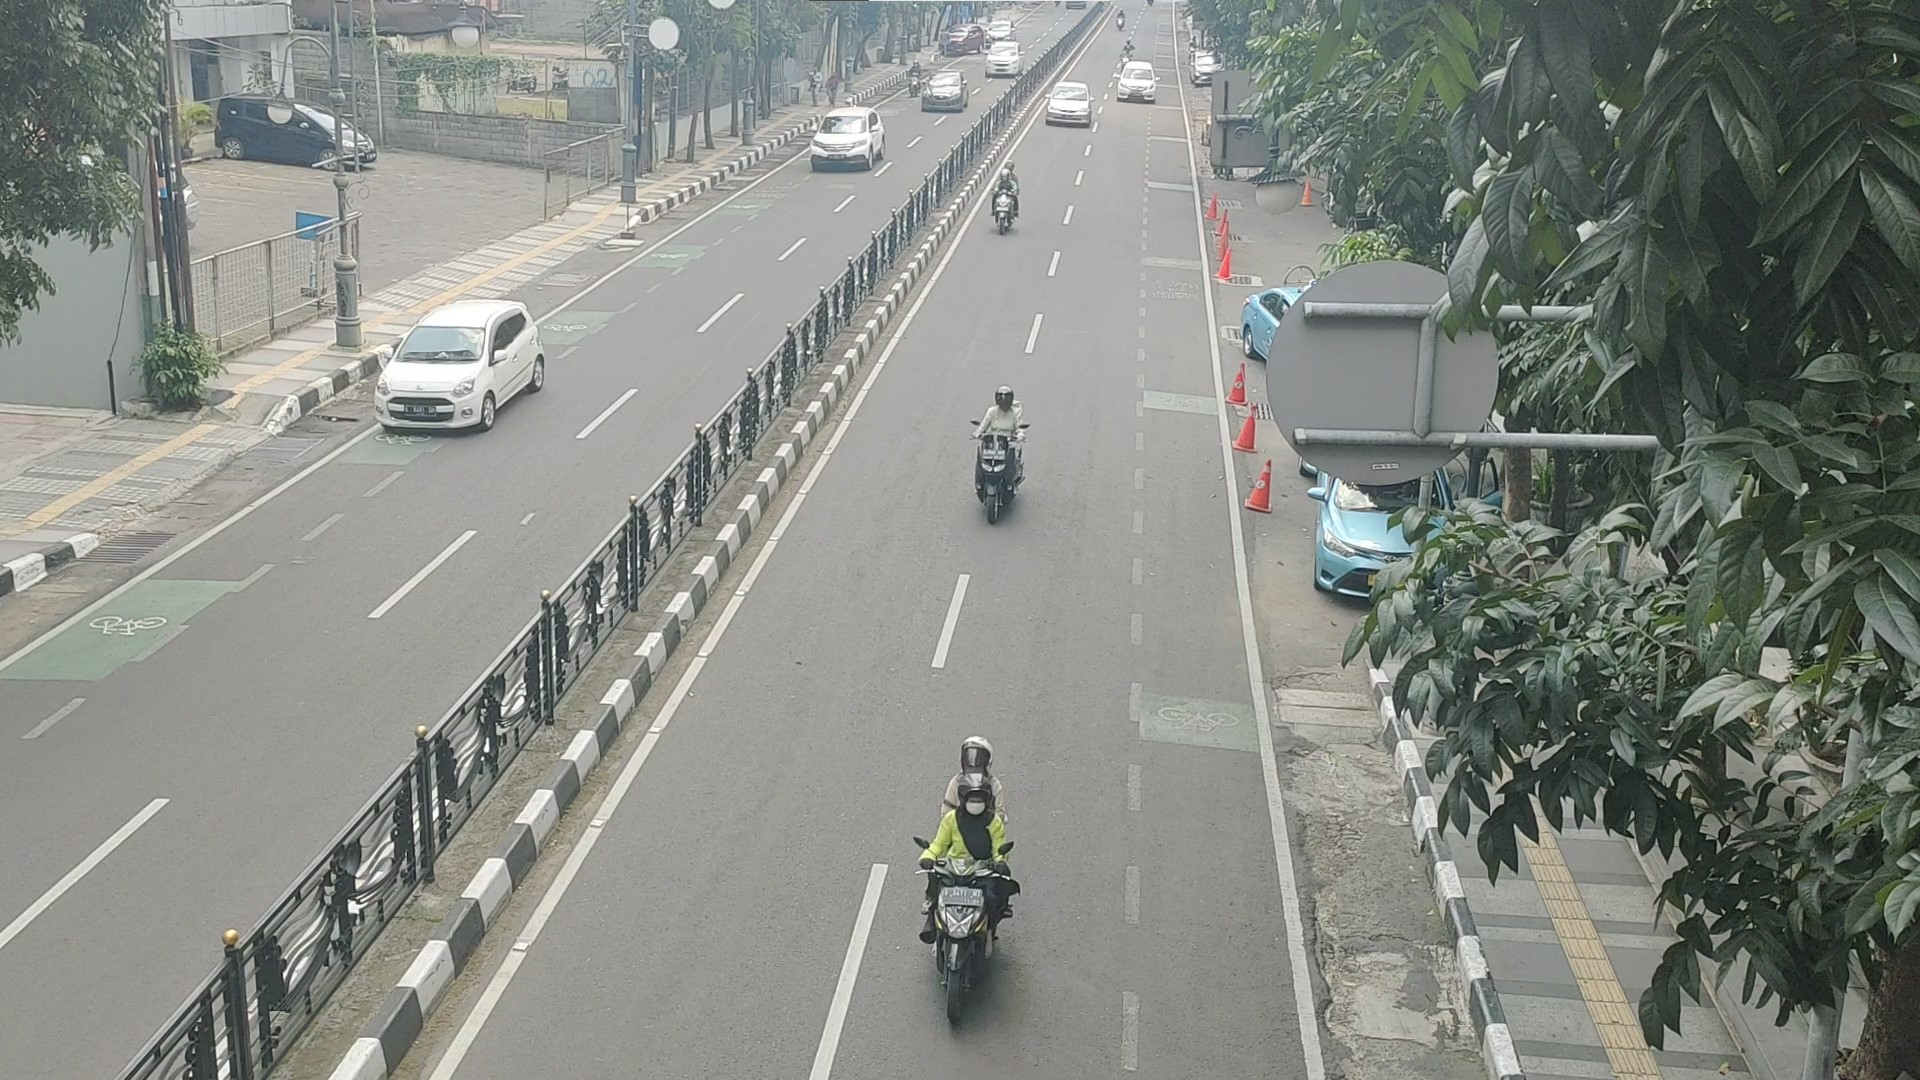mobil: (368, 295, 553, 442), (804, 104, 887, 174), (1040, 82, 1092, 132), (920, 70, 971, 117), (980, 36, 1025, 83), (1114, 61, 1159, 104)
motor: (906, 732, 1030, 1042), (960, 378, 1033, 531), (980, 154, 1025, 243), (907, 61, 927, 95)
